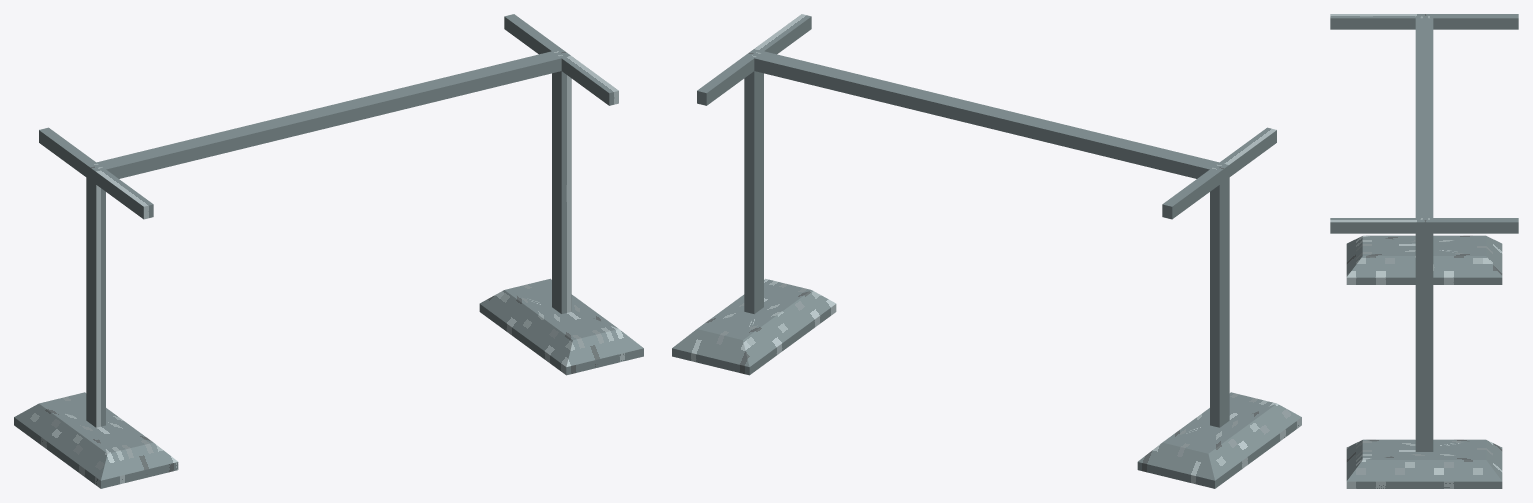
The model's file is Tendedero.obj.
3 views of the same model, side by side, from view 1: azimuth 30°, elevation 25°; view 2: azimuth 150°, elevation 25°; view 3: azimuth 270°, elevation 25° (orthographic). The views are drawn at different scales.
Visible parts, largest first — view 1: Plane; view 2: Plane; view 3: Plane.
Boxes of the visible parts, x1,y1,x2,y2 form: Plane: (14,14,643,488); Plane: (672,14,1301,488); Plane: (1330,14,1518,488).
Bounding box in the file's own units: 3.29 × 1.62 × 1.1.
1 material, 1 textured.
